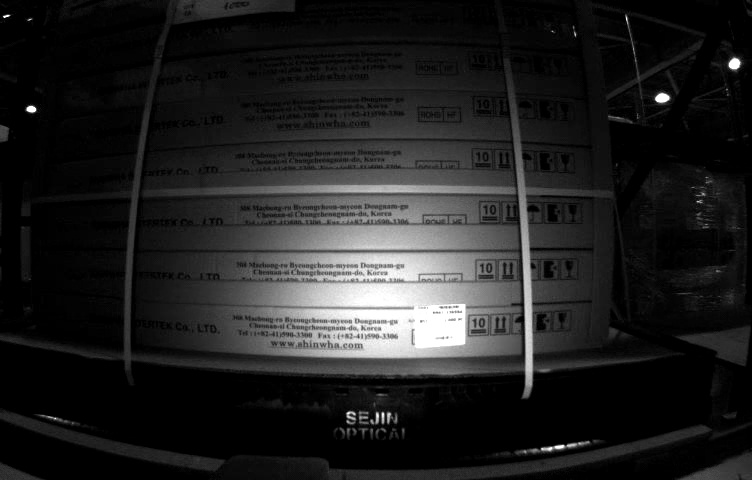True Barcode: (415, 305, 466, 347)
